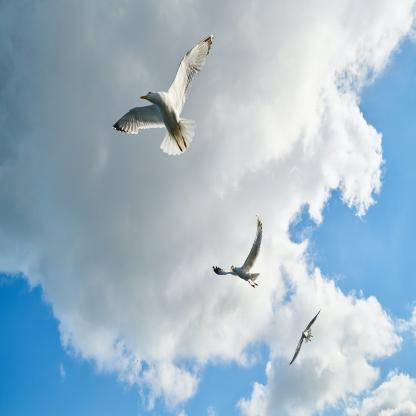bird: (112, 34, 214, 156), (212, 215, 262, 288), (288, 309, 322, 366)
